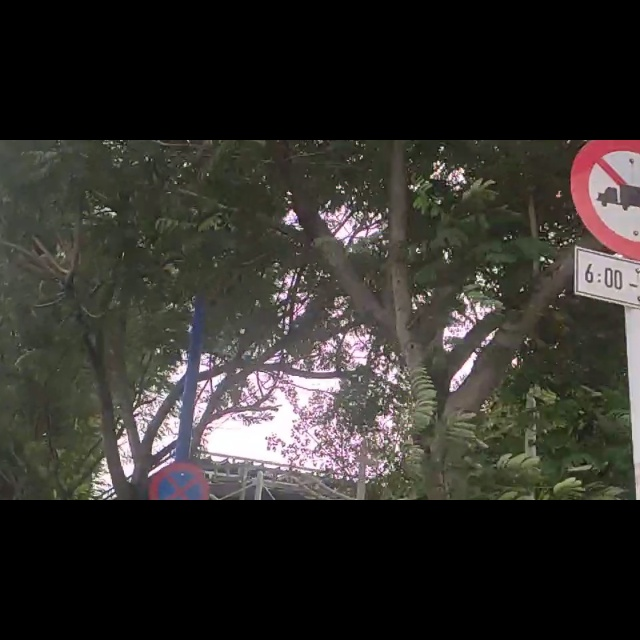bien_cam: (572, 8, 640, 282), (149, 572, 214, 640)
